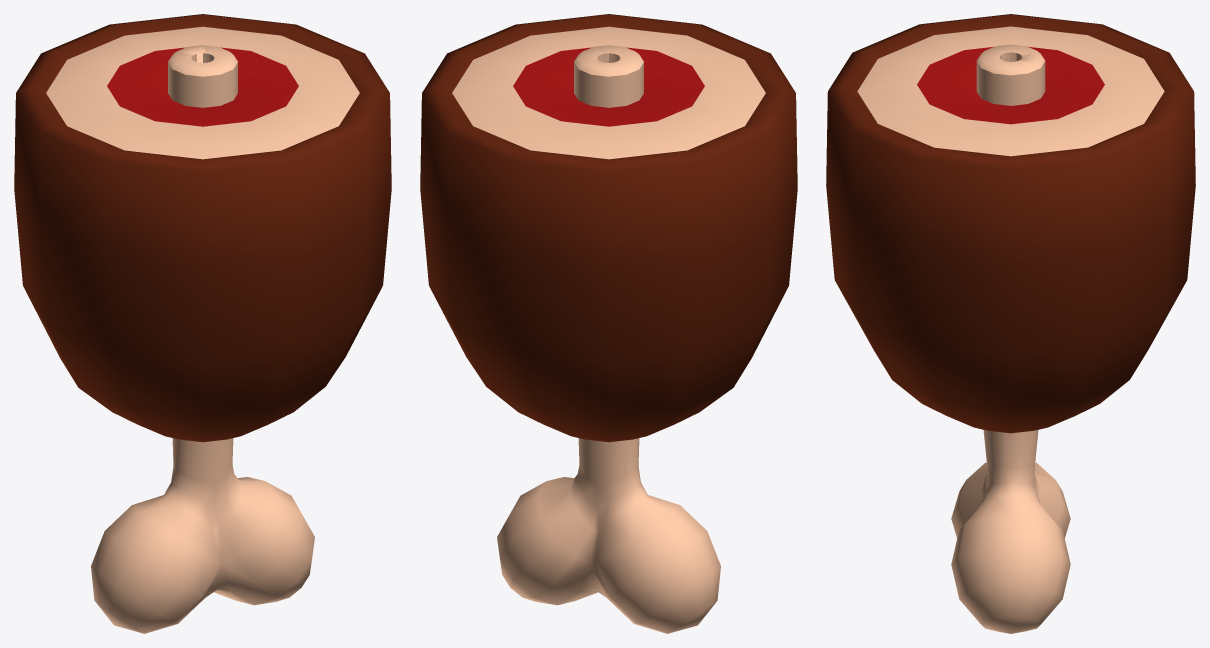
The model's file is Meat_Test.fbx.
The picture shows the model from 3 angles, left to right: view 1: azimuth 30°, elevation 25°; view 2: azimuth 150°, elevation 25°; view 3: azimuth 270°, elevation 25°; orthographic projection. The views are drawn at different scales.
Parts seen in each view (by area): view 1: Meat; view 2: Meat; view 3: Meat.
Boxes of the visible parts, <box> form: Meat: <box>14,14,391,633</box>; Meat: <box>420,14,797,633</box>; Meat: <box>826,14,1195,633</box>.
Bounding box in the file's own units: 45.29 × 73.67 × 45.29.
